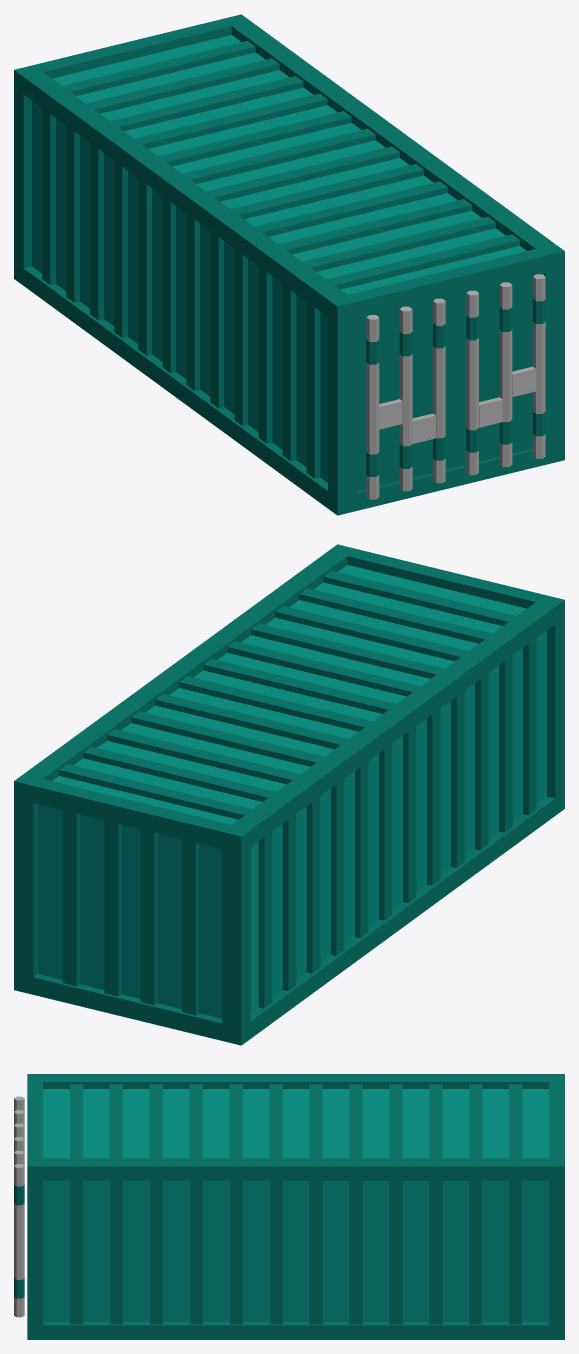
The model's file is Container3.fbx.
The picture shows the model from 3 angles, top to bottom: view 1: azimuth 30°, elevation 25°; view 2: azimuth 150°, elevation 25°; view 3: azimuth 270°, elevation 25°; orthographic projection. The views are drawn at different scales.
Parts seen in each view (by area): view 1: Container; view 2: Container; view 3: Container.
Part boxes in pixels (x1,y1,x2,y2): Container: (14, 14, 564, 515); Container: (14, 544, 564, 1045); Container: (14, 1074, 564, 1339).
Size of the model in its own units: 410 by 360 by 1035.
